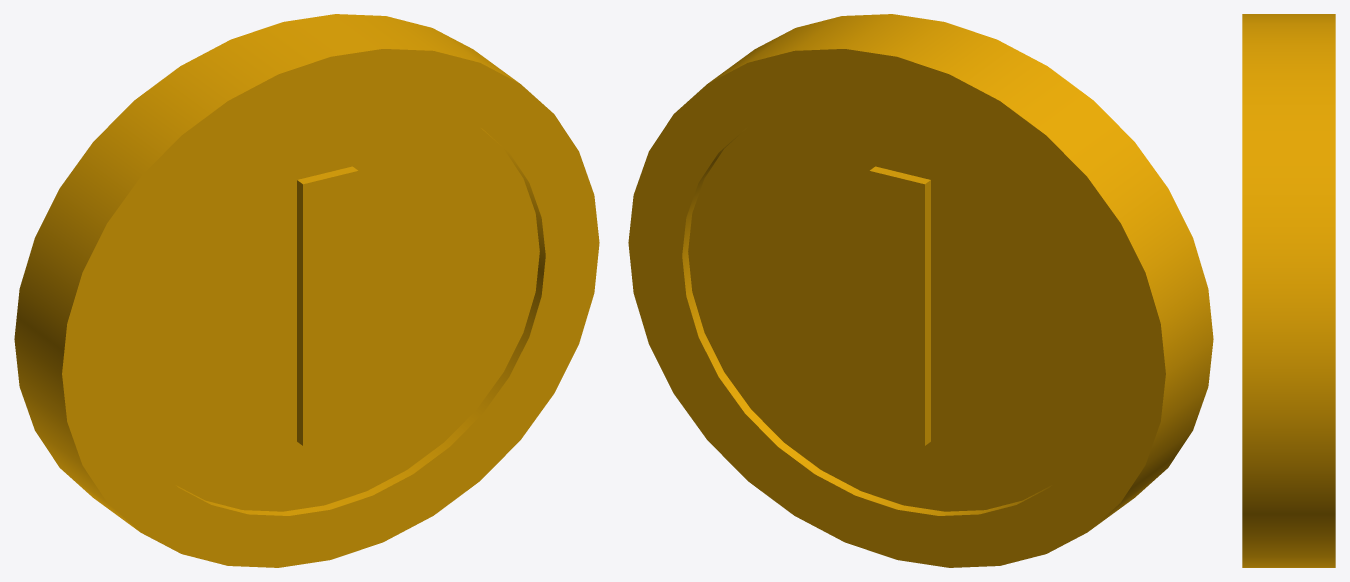
The model's file is coinobj_coin_0.001_lev3.glb.
3 renders of one model, left to right at view 1: azimuth 30°, elevation 25°; view 2: azimuth 150°, elevation 25°; view 3: azimuth 270°, elevation 25°, orthographic. The views are drawn at different scales.
Parts seen in each view (by area): view 1: coinobj_coin_0.001_lev3; view 2: coinobj_coin_0.001_lev3; view 3: coinobj_coin_0.001_lev3.
Boxes of the visible parts, bbox=[...] form: coinobj_coin_0.001_lev3: bbox=[14, 14, 599, 567]; coinobj_coin_0.001_lev3: bbox=[628, 14, 1213, 567]; coinobj_coin_0.001_lev3: bbox=[1242, 14, 1335, 567].
Size of the model in its own units: 4.51 by 4.03 by 0.6912.
